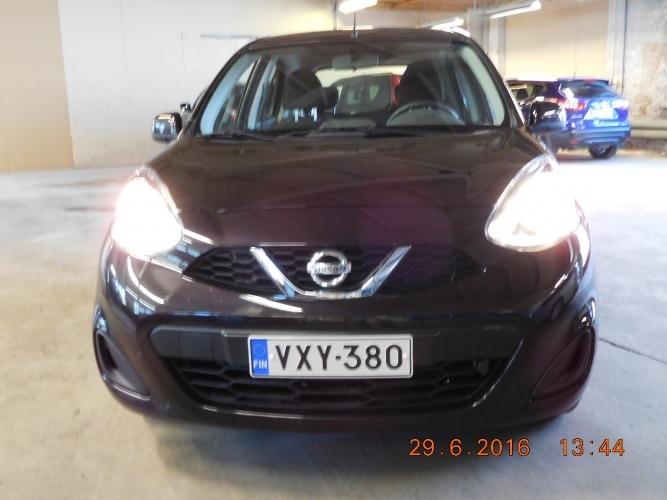license: (244, 331, 409, 381)
